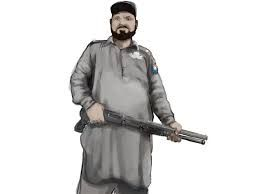gun: (70, 101, 211, 154)
